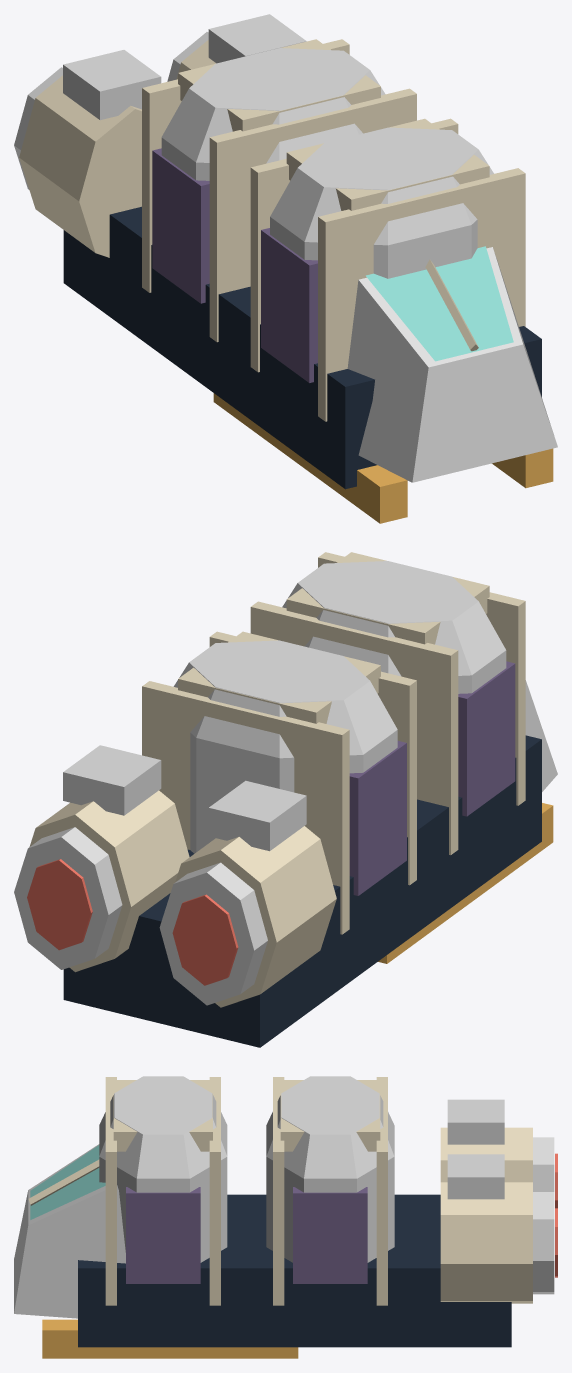
File: space_boat.glb
3 views of the same model, one above another, from view 1: azimuth 30°, elevation 25°; view 2: azimuth 150°, elevation 25°; view 3: azimuth 270°, elevation 25° (orthographic). The views are drawn at different scales.
Visible parts, largest first — view 1: FixedDetails, WoodBody, BrassTrim; view 2: FixedDetails, WoodBody, BrassTrim; view 3: FixedDetails, WoodBody, BrassTrim.
Part boxes in pixels (x1,y1,x2,y2): FixedDetails: [19, 39, 541, 489]; WoodBody: [14, 14, 557, 482]; BrassTrim: [142, 39, 553, 523]; FixedDetails: [27, 552, 541, 1047]; WoodBody: [14, 561, 557, 1005]; BrassTrim: [142, 552, 553, 963]; FixedDetails: [30, 1080, 557, 1347]; WoodBody: [14, 1076, 554, 1318]; BrassTrim: [28, 1077, 387, 1358].
Size of the model in its own units: 0.32 by 0.34 by 0.76.
